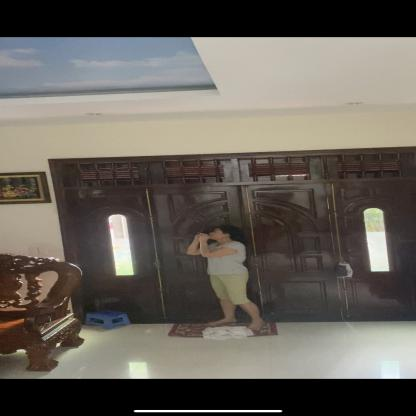cigarette: (197, 232, 202, 235)
person: (185, 224, 273, 334)
